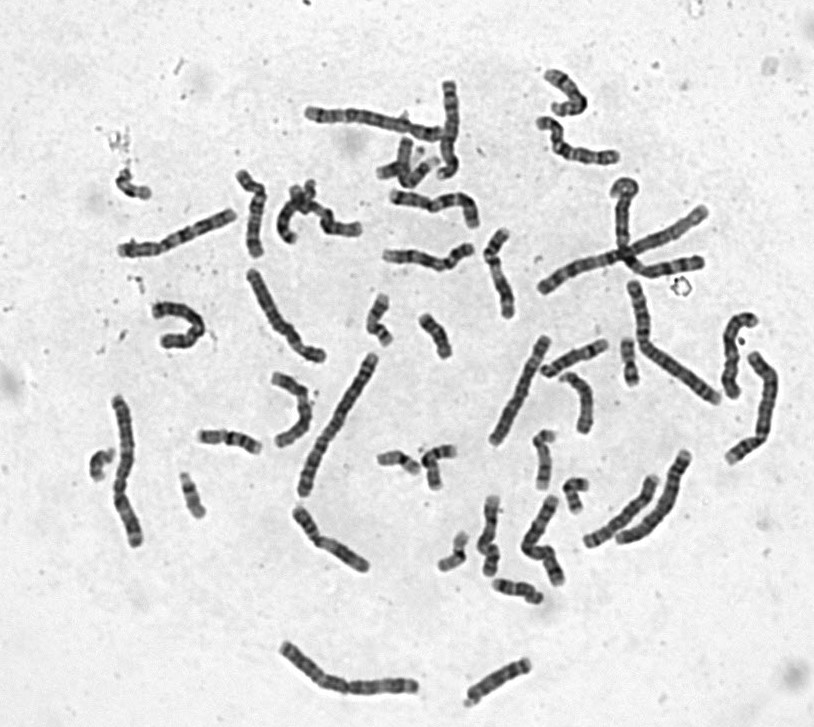chromosomes: (532, 204, 712, 297), (288, 352, 382, 499), (624, 278, 725, 412), (604, 174, 708, 287), (276, 635, 429, 703), (238, 267, 330, 367), (613, 448, 700, 551), (485, 332, 556, 449), (109, 206, 244, 263), (720, 349, 779, 469), (105, 389, 147, 553), (580, 470, 661, 555), (295, 103, 451, 145), (291, 503, 375, 576), (520, 493, 575, 591), (534, 114, 625, 170), (457, 652, 542, 710), (388, 187, 485, 236), (284, 183, 366, 240), (426, 71, 467, 182), (267, 365, 316, 449), (482, 225, 522, 323), (232, 159, 269, 261), (533, 336, 615, 382), (719, 309, 760, 400), (532, 60, 591, 122), (147, 298, 209, 352), (273, 178, 319, 249), (557, 369, 602, 439), (380, 241, 476, 273), (394, 131, 443, 191), (471, 489, 503, 578), (363, 291, 401, 354), (196, 426, 268, 459), (420, 441, 462, 495), (111, 165, 158, 208), (416, 311, 454, 364), (370, 148, 429, 182), (531, 424, 560, 493), (486, 578, 548, 610), (434, 524, 469, 580), (174, 469, 210, 521), (86, 440, 120, 493), (374, 448, 425, 479), (618, 331, 643, 392), (564, 471, 593, 518)
